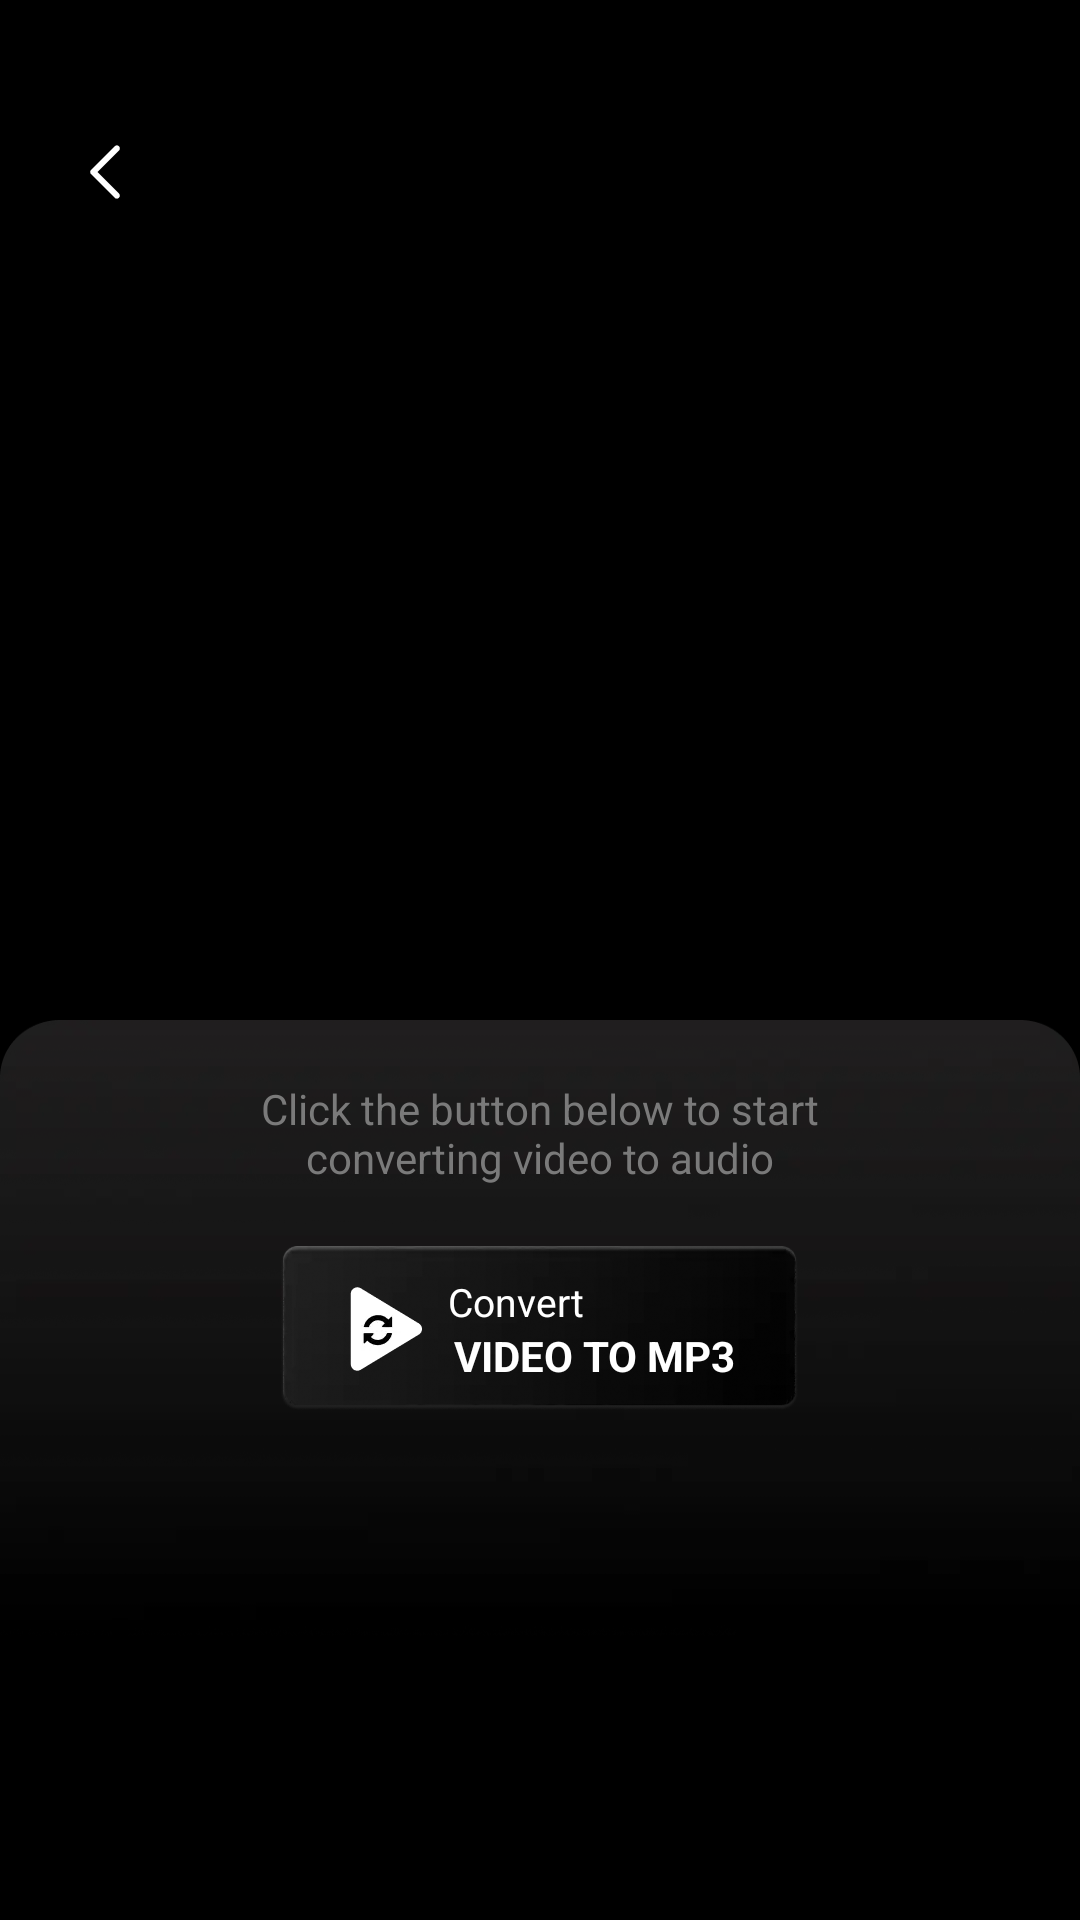

Icons on this 1080px x 1920px Android screen, each with the point to tap as [x,y]:
back: [105,172]
